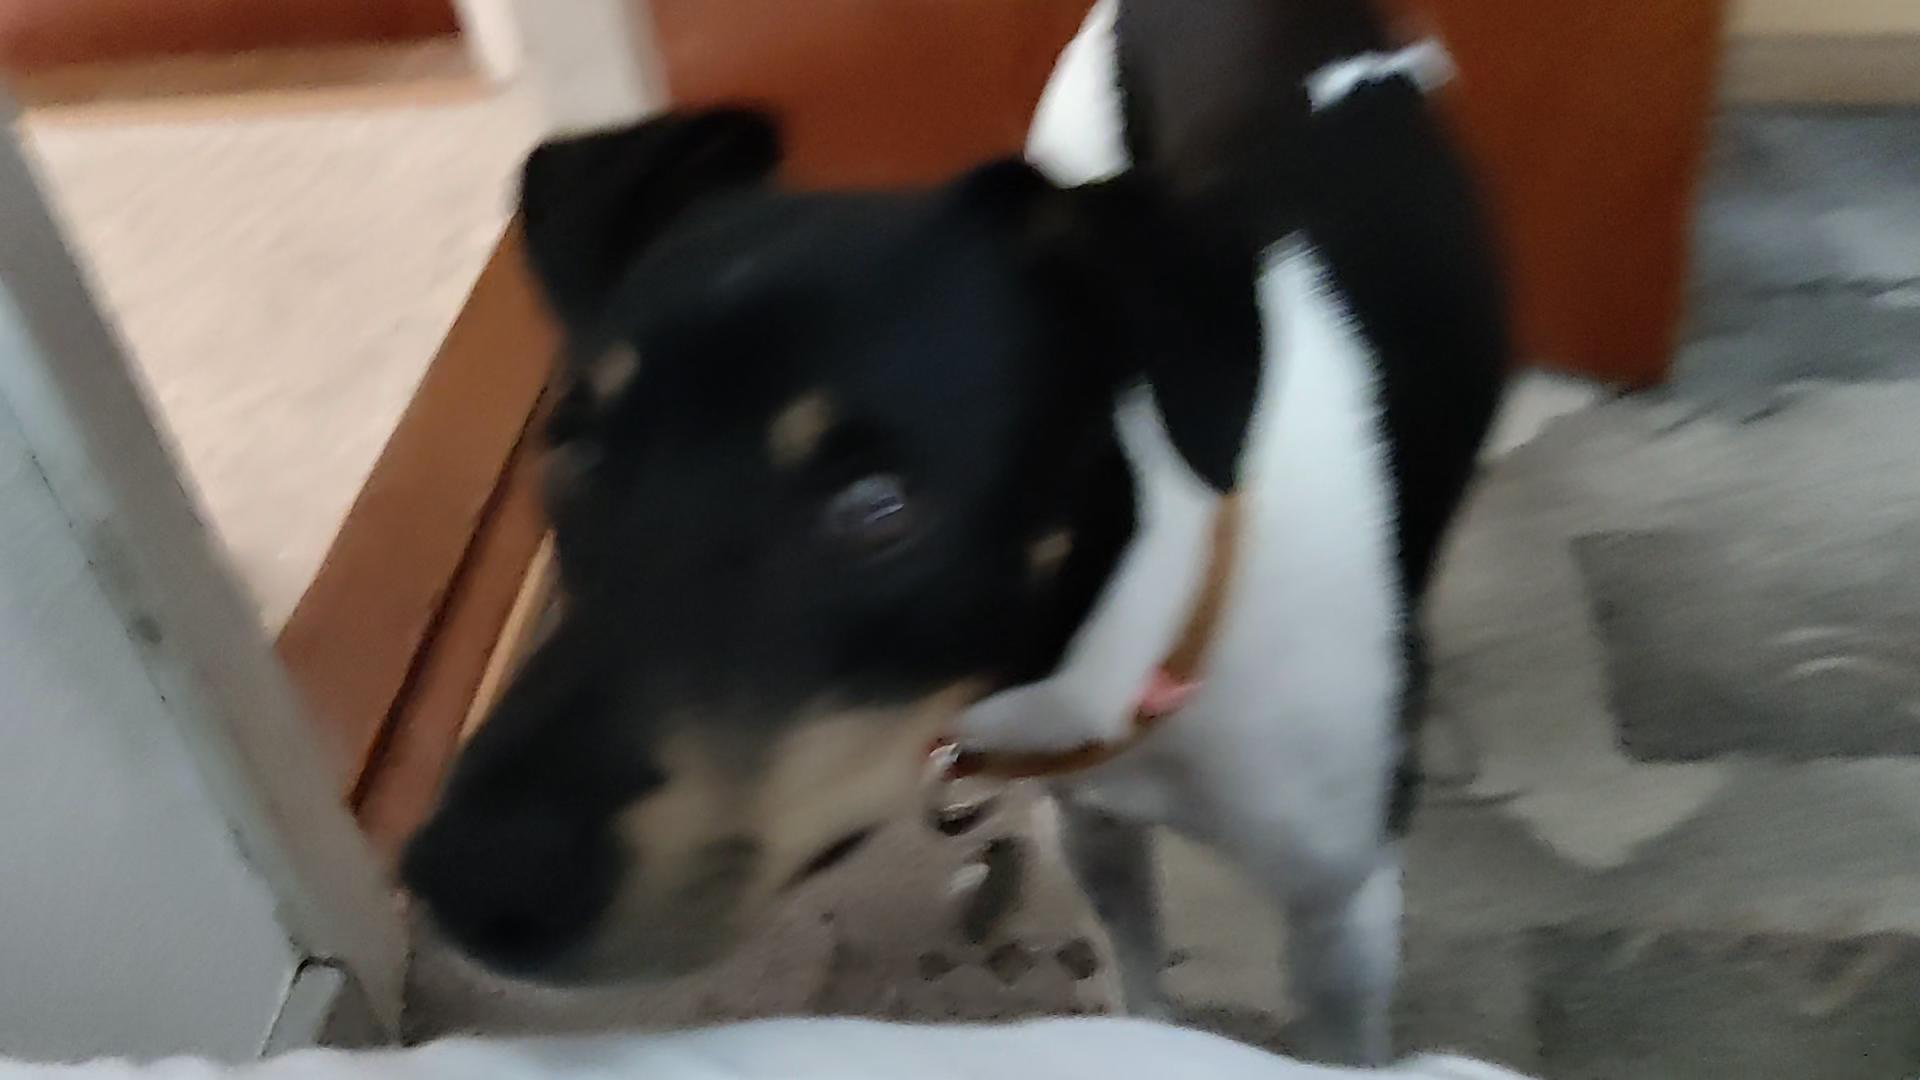Dog: (375, 0, 1563, 1071)
